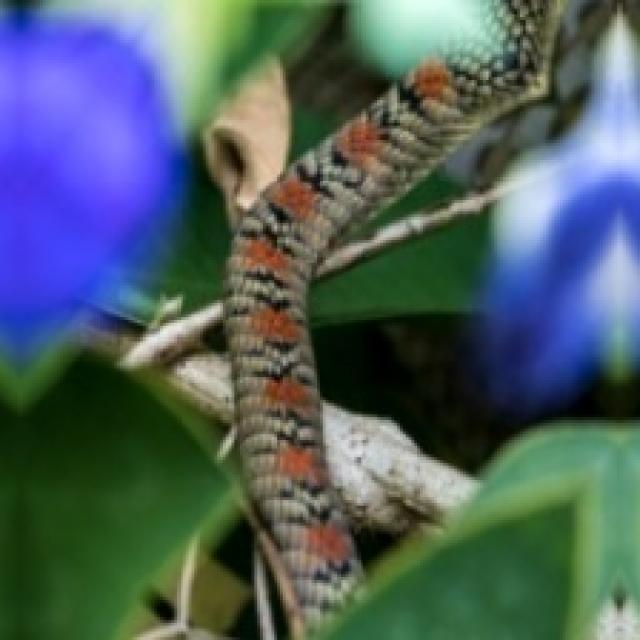paradise tree snake: (226, 0, 551, 637), (477, 17, 637, 409), (420, 560, 566, 634)
